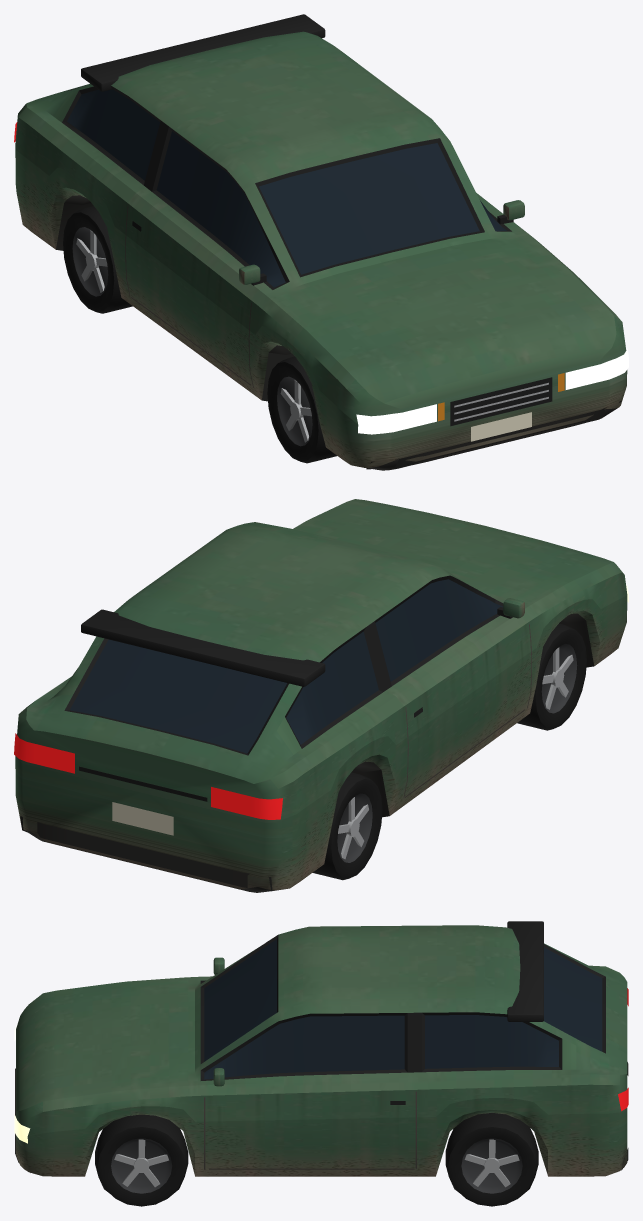
The model's file is hatchback-sports.glb.
The picture shows the model from 3 angles, top to bottom: view 1: azimuth 30°, elevation 25°; view 2: azimuth 150°, elevation 25°; view 3: azimuth 270°, elevation 25°; orthographic projection. The views are drawn at different scales.
Parts seen in each view (by area): view 1: body, wheel-back-right, wheel-front-right, wheel-front-right.1, wheel-back-right.1; view 2: body, wheel-back-right, wheel-front-right, wheel-back-right.1, wheel-front-right.1; view 3: body, wheel-back-left, wheel-front-left, wheel-back-left.1, wheel-front-left.1.
Part boxes in pixels (x1,y1,x2,y2): body: [14, 14, 628, 470]; wheel-back-right: [63, 206, 132, 313]; wheel-front-right: [267, 356, 336, 463]; wheel-front-right.1: [277, 376, 312, 446]; wheel-back-right.1: [72, 227, 108, 296]; body: [14, 499, 628, 892]; wheel-back-right: [312, 772, 382, 880]; wheel-front-right: [517, 623, 586, 730]; wheel-back-right.1: [337, 793, 372, 862]; wheel-front-right.1: [541, 644, 577, 713]; body: [14, 921, 628, 1176]; wheel-back-left: [445, 1113, 538, 1206]; wheel-front-left: [95, 1114, 188, 1206]; wheel-back-left.1: [461, 1138, 522, 1193]; wheel-front-left.1: [111, 1138, 172, 1193].
Bounding box in the file's own units: 1.29 × 0.9686 × 2.84.
Materials: 12 (1 with a texture image).
